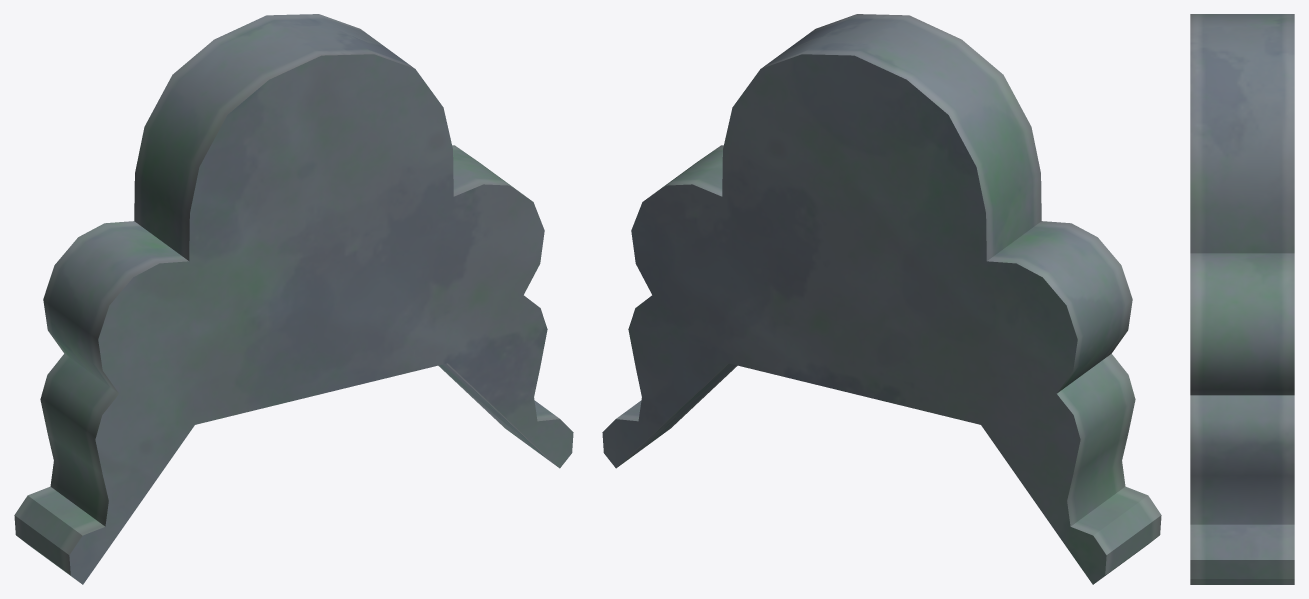
Rendered from SM_Stone_Ornament_Roof1.fbx.
3 renders of one model, left to right at view 1: azimuth 30°, elevation 25°; view 2: azimuth 150°, elevation 25°; view 3: azimuth 270°, elevation 25°, orthographic. The views are drawn at different scales.
Visible parts, largest first — view 1: Stone_ornament_roof; view 2: Stone_ornament_roof; view 3: Stone_ornament_roof.
Part boxes in pixels (<box>): Stone_ornament_roof: <box>14,14,573,584</box>; Stone_ornament_roof: <box>602,14,1161,584</box>; Stone_ornament_roof: <box>1190,14,1294,584</box>.
Size of the model in its own units: 0.2275 by 0.2032 by 0.043.
